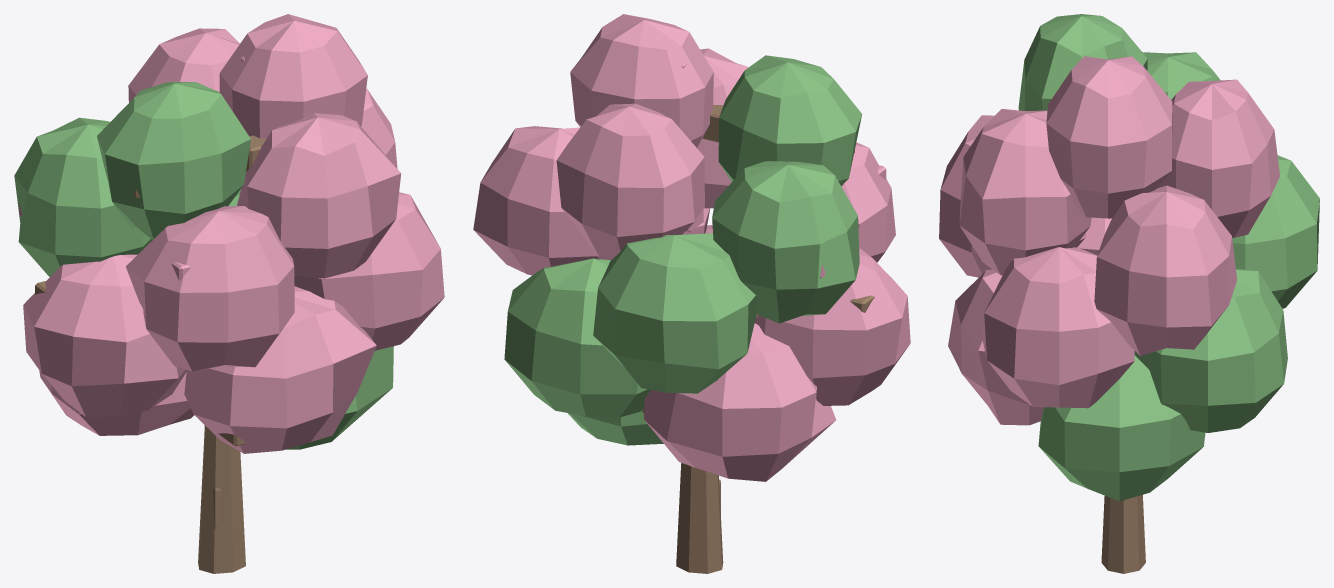
The model's file is b08_southern_magnolia.glb.
3 renders of one model, left to right at view 1: azimuth 30°, elevation 25°; view 2: azimuth 150°, elevation 25°; view 3: azimuth 270°, elevation 25°, orthographic.
Visible parts, largest first — view 1: b08_southern_magnolia; view 2: b08_southern_magnolia; view 3: b08_southern_magnolia.
Boxes of the visible parts, x1=… form: b08_southern_magnolia: x1=14, y1=14, x2=444, y2=573; b08_southern_magnolia: x1=473, y1=14, x2=910, y2=573; b08_southern_magnolia: x1=939, y1=14, x2=1319, y2=573.
Bounding box in the file's own units: 3.71 × 4.87 × 3.15.
